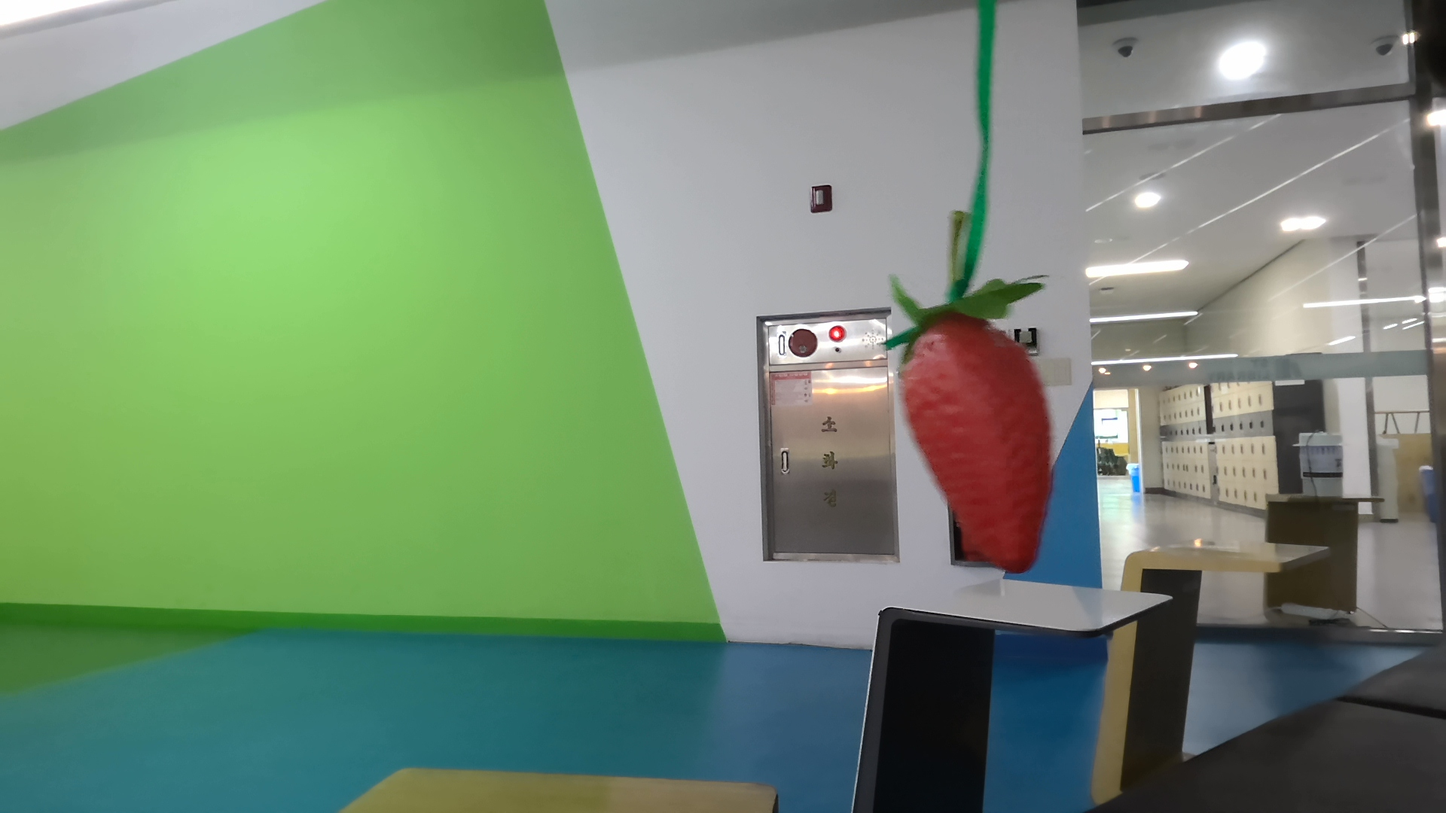strawberry: (878, 305, 1067, 576)
